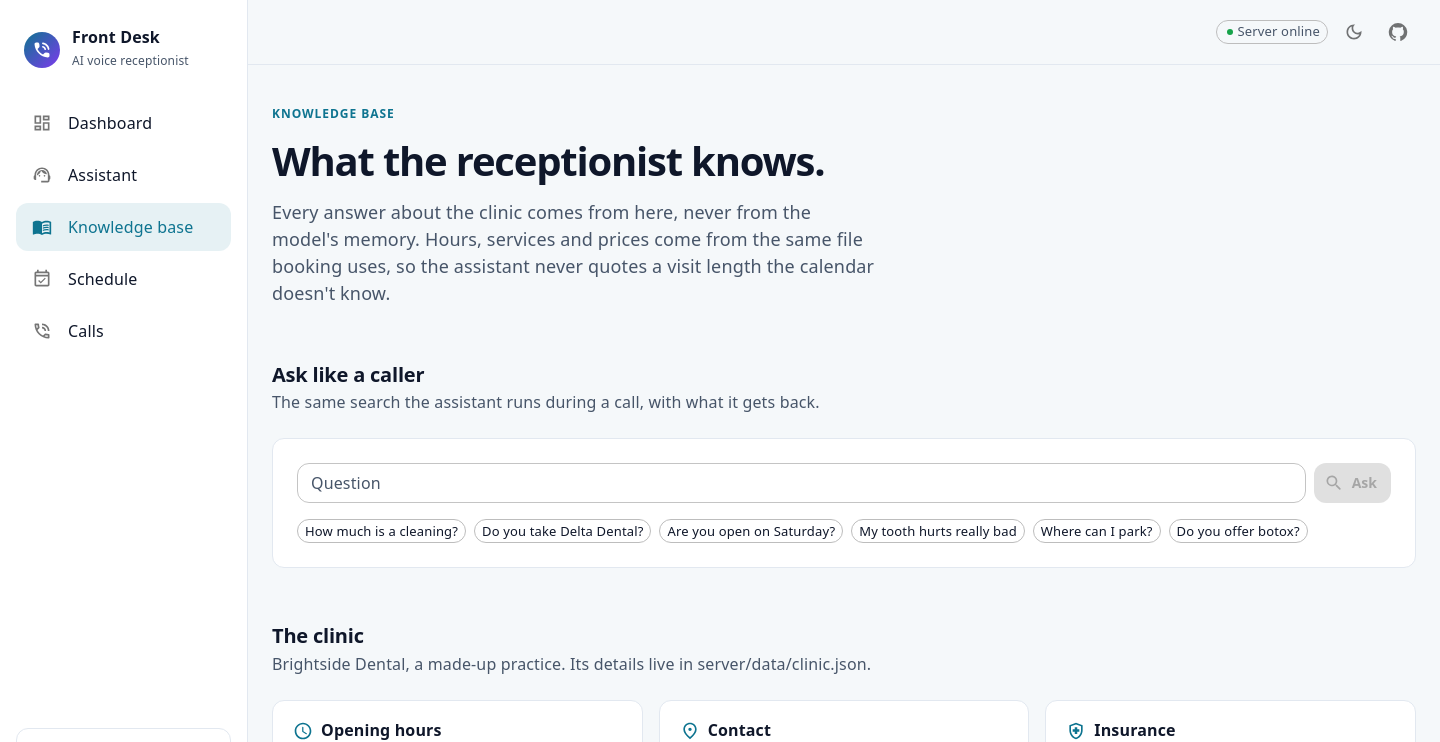
Test case: Knowledge base page › says when the question isn't in the knowledge base
expect the button "Ask" is disabled: met, box top-left (1314, 463), bottom-right (1391, 503)
Step 1. Type "Do you offer botox?" into the field labelled "Question" → (801, 483), box top-left (297, 463), bottom-right (1306, 503)
Then press Enter
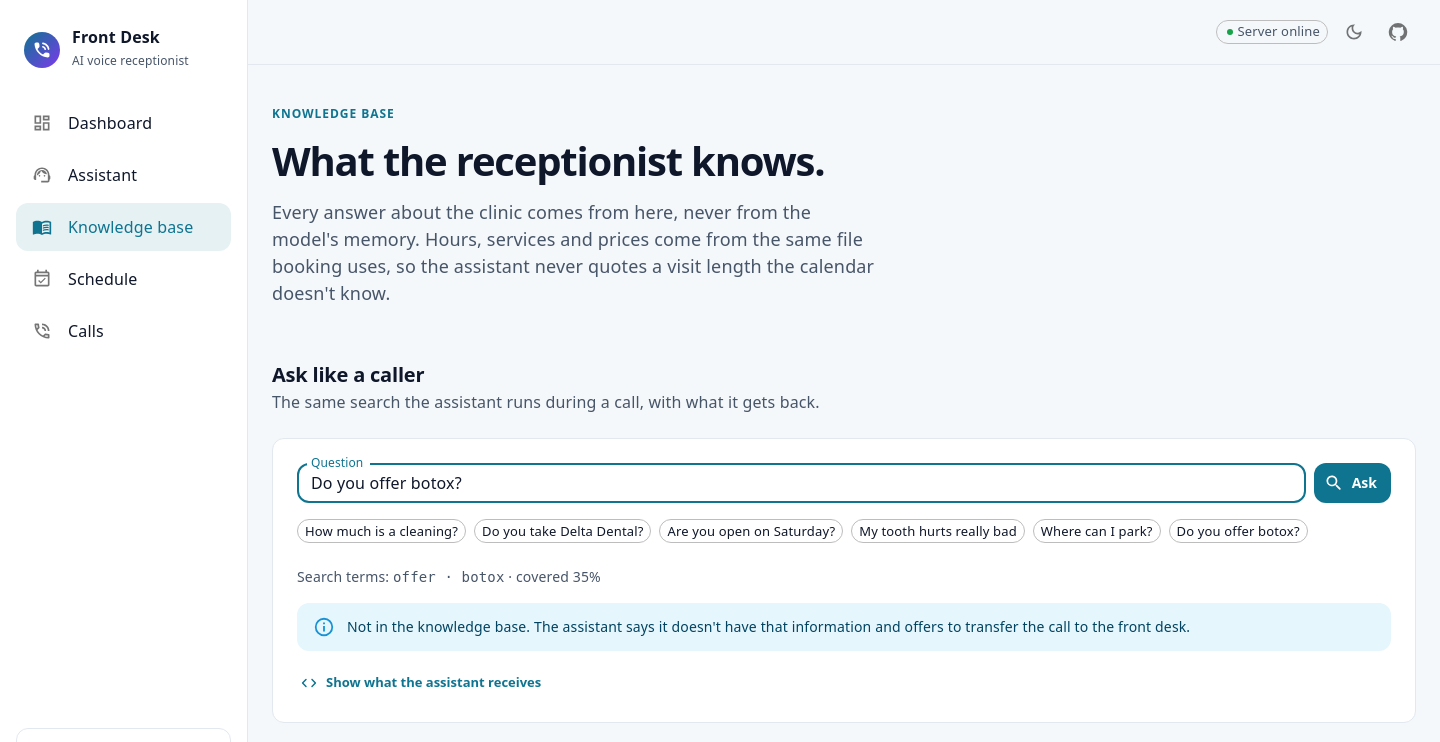
expect the text "Not in the knowledge base" is shown: met, box top-left (347, 617), bottom-right (1190, 636)
